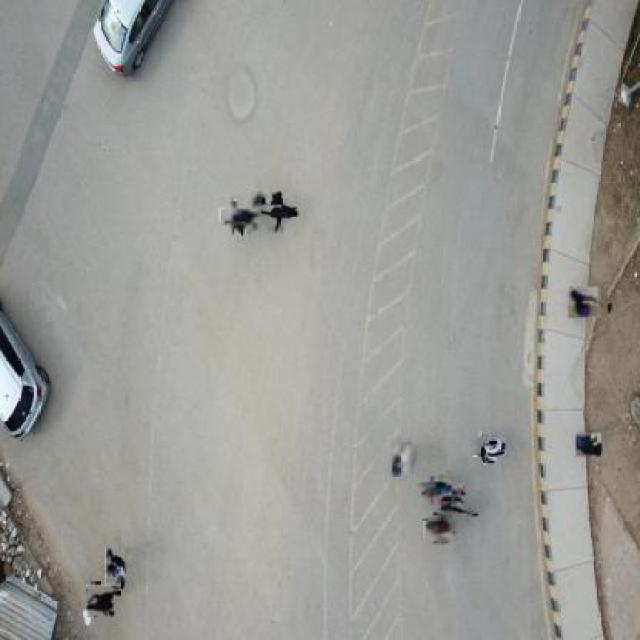Person: (439, 489, 473, 523), (88, 583, 120, 615), (569, 288, 600, 320), (105, 548, 126, 590), (475, 432, 503, 462), (224, 202, 253, 230), (252, 189, 270, 234), (262, 199, 292, 226), (392, 438, 412, 478), (422, 476, 449, 504), (427, 515, 455, 542), (576, 433, 602, 459)
